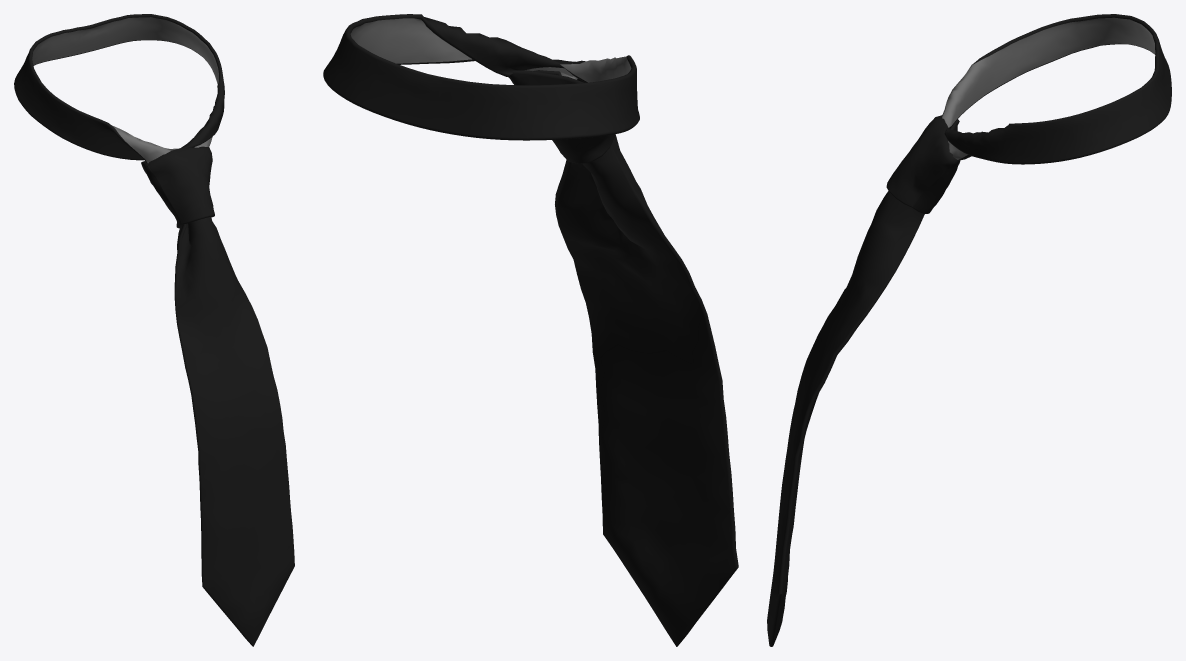
Rendered from black_tie_1k.glb.
3 renders of one model, left to right at view 1: azimuth 30°, elevation 25°; view 2: azimuth 150°, elevation 25°; view 3: azimuth 270°, elevation 25°, orthographic. The views are drawn at different scales.
Parts seen in each view (by area): view 1: Object_3, Object_2; view 2: Object_3, Object_2; view 3: Object_3, Object_2.
Boxes of the visible parts, x1,y1,x2,y2 form: Object_3: (14,14,294,646); Object_2: (32,17,218,163); Object_3: (323,14,738,646); Object_2: (350,18,631,82); Object_3: (767,14,1171,646); Object_2: (942,17,1155,159).
Size of the model in its own units: 147 by 378 by 234.
Materials: 2 (1 with a texture image).
